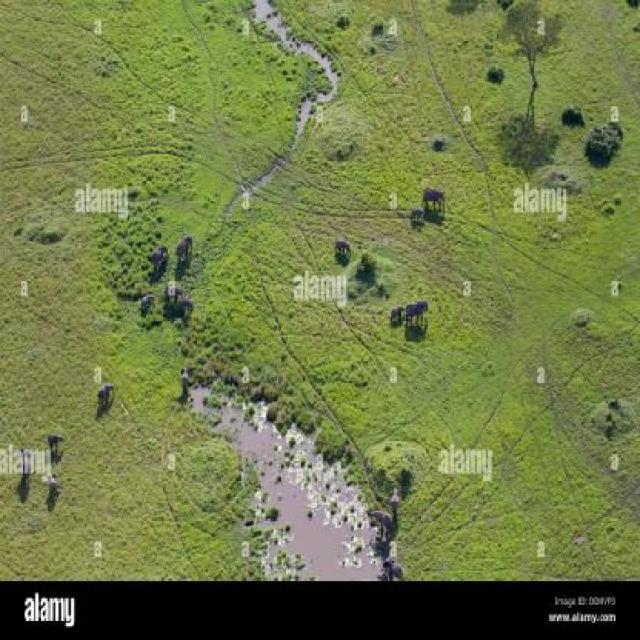elephant: (412, 168, 450, 221), (323, 224, 357, 268), (47, 417, 78, 463), (408, 298, 442, 336), (36, 458, 62, 500), (401, 198, 433, 231), (178, 227, 204, 267), (163, 282, 194, 315), (17, 439, 40, 481), (130, 282, 153, 324), (94, 378, 118, 410), (148, 240, 168, 274), (388, 304, 412, 327), (181, 361, 196, 397)
